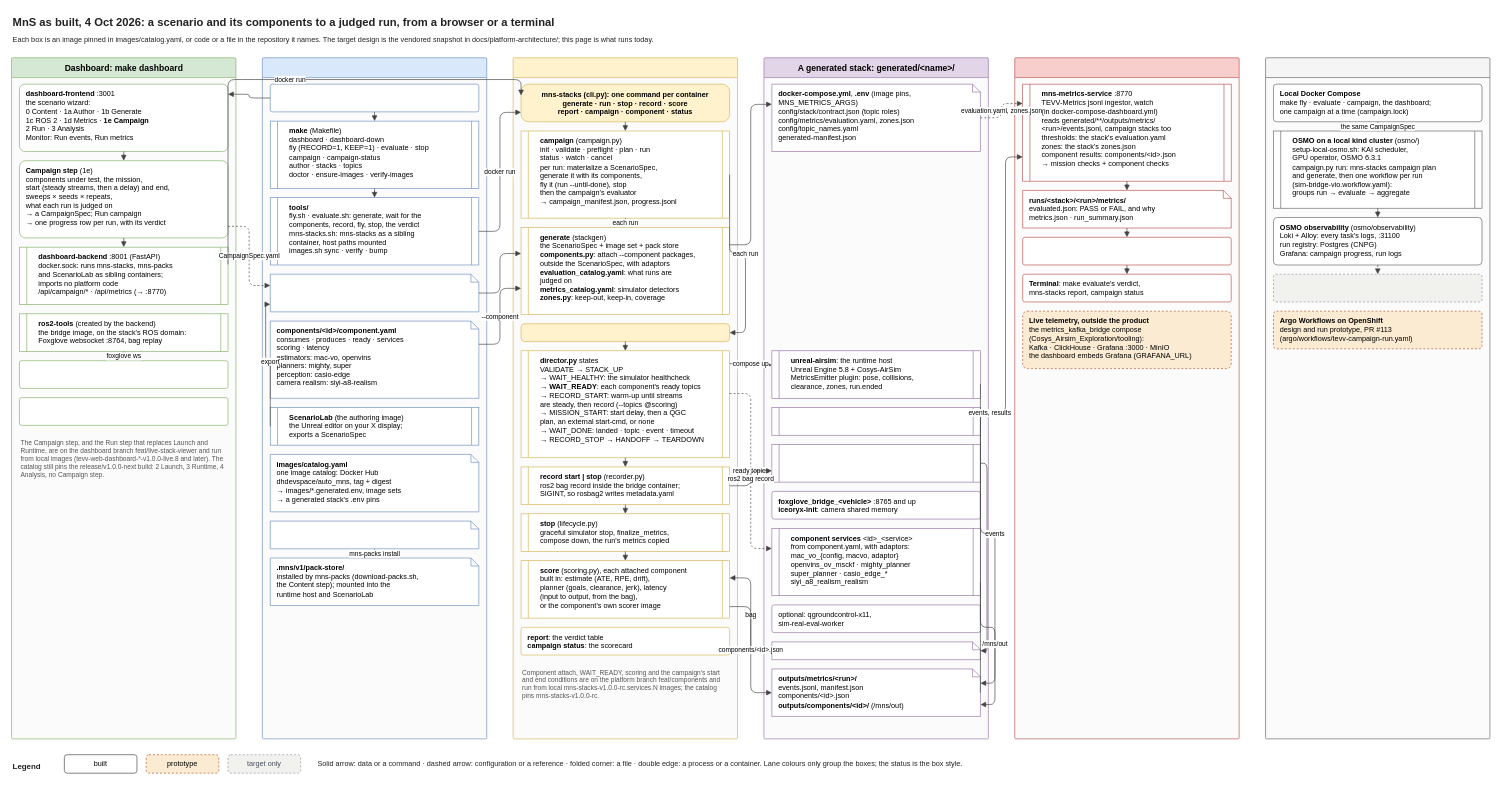
Some shapes in this 1502 by 792 pixel diagram are drawn without their labels. Here are the shapes that lost their labels. From the top down, the box of each, then its label:
(270, 83, 479, 112): You : a browser on http://localhost:3001, or a terminal in this checkout
(1022, 237, 1231, 265): Dashboard : Monitor → Run metrics, Analysis, the Campaign step's progress rows
(270, 274, 479, 312): scenarios/<name>/ ScenarioSpec.yaml (+ includes) CampaignSpec.yaml · routes/
(1273, 274, 1482, 302): Under OSMO: attached component packages and the metrics service
(520, 323, 730, 342): run --until-done : the run director
(19, 360, 228, 388): dashboard-lichtblick :8082 the topic viewer
(19, 397, 228, 425): postgres-telemetry (TimescaleDB) only with make dashboard DB=true
(262, 57, 487, 739): You and the product shell (this repository)
(512, 57, 738, 739): Platform: the mns-stacks image
(1014, 57, 1239, 739): Judge and report
(1265, 57, 1490, 739): Where a campaign runs
(771, 407, 980, 435): px4-drone-N or ardupilot-drone-N autopilot SITL, one per vehicle
(771, 444, 980, 482): airsim_bridge_<vehicle> the ROS 2 bridge, with MAVROS; the recorder runs here
(270, 520, 479, 549): packs/v1.0.0.lock.json level and object pack versions
(771, 641, 980, 660): <runs>/<run id>/bag/ , run.json
